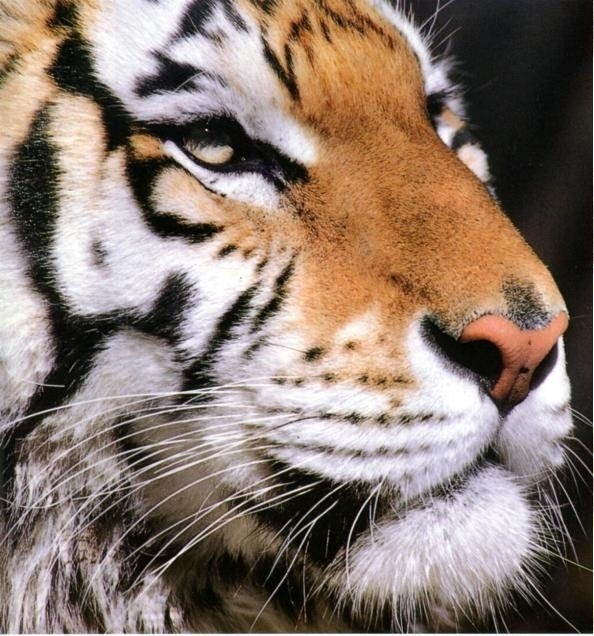tigre: (1, 1, 591, 632)
